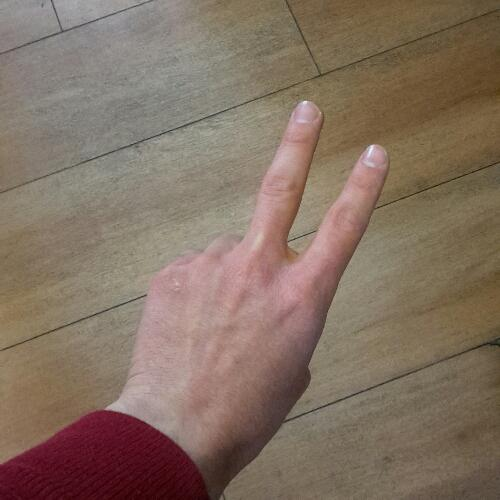scissors: (113, 89, 394, 486)
